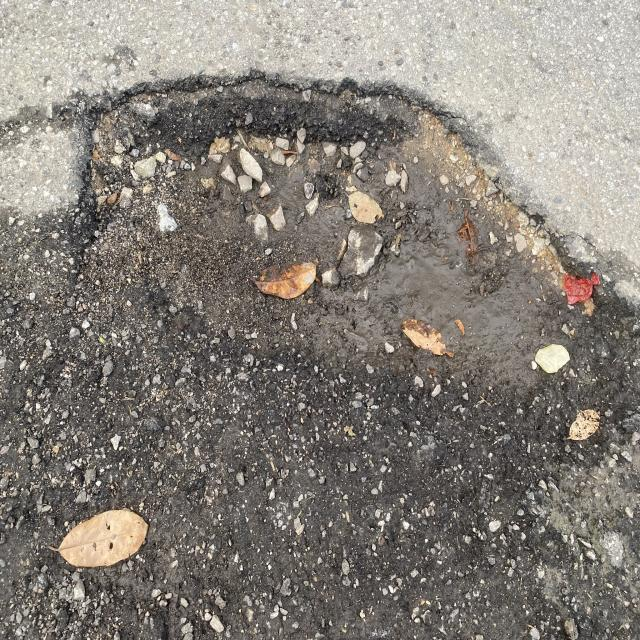pothole: (64, 36, 640, 388)
